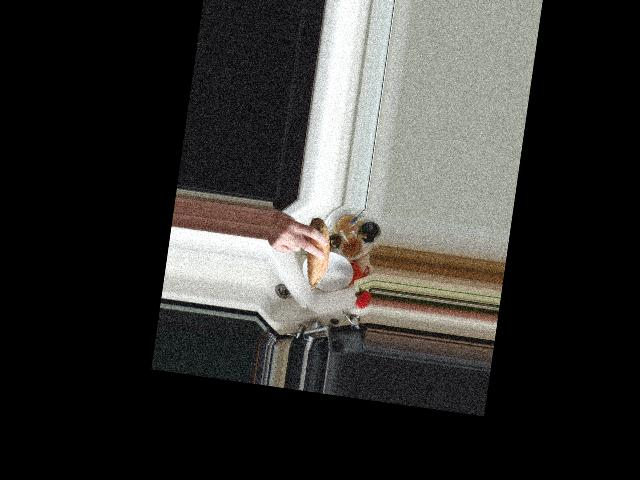sweet_potato: (296, 213, 333, 295)
